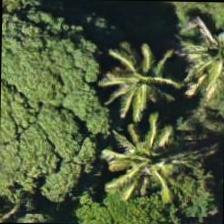Kelapa_Sawit: (94, 116, 186, 208), (92, 34, 184, 126), (174, 5, 223, 98)
